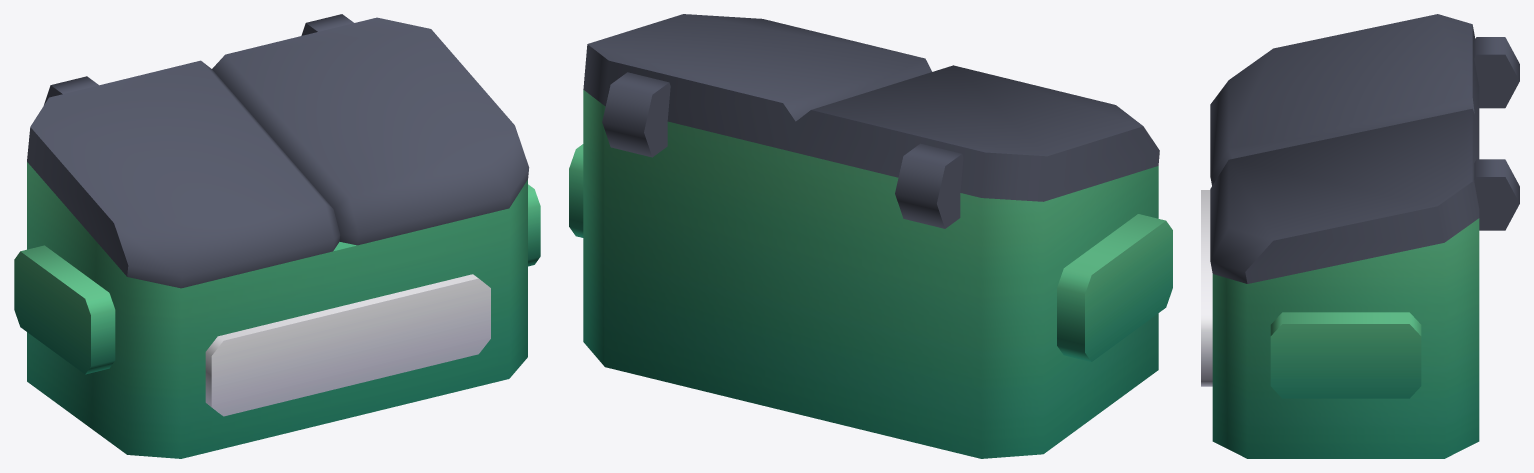
The model's file is obstacle_low_dumpster.glb.
The picture shows the model from 3 angles, left to right: view 1: azimuth 30°, elevation 25°; view 2: azimuth 150°, elevation 25°; view 3: azimuth 270°, elevation 25°; orthographic projection. The views are drawn at different scales.
Visible parts, largest first — view 1: dumpster; view 2: dumpster; view 3: dumpster.
Part boxes in pixels (x1,y1,x2,y2): dumpster: (14,14,540,458); dumpster: (569,14,1172,458); dumpster: (1201,14,1519,458).
Bounding box in the file's own units: 1.6 × 0.8999 × 0.9999.
Materials: 1 (1 with a texture image).
